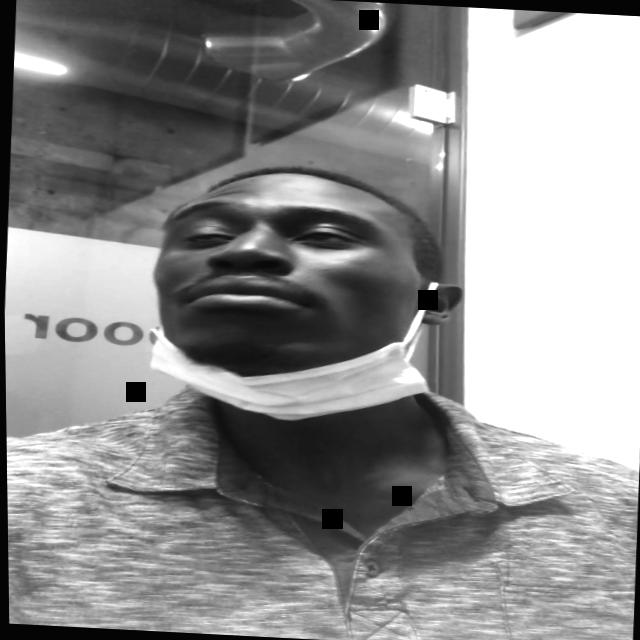NO-Mask: (138, 182, 428, 379)
